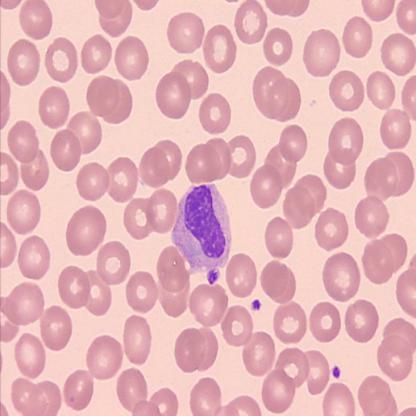Metamyelocyte: (169, 182, 233, 271)
